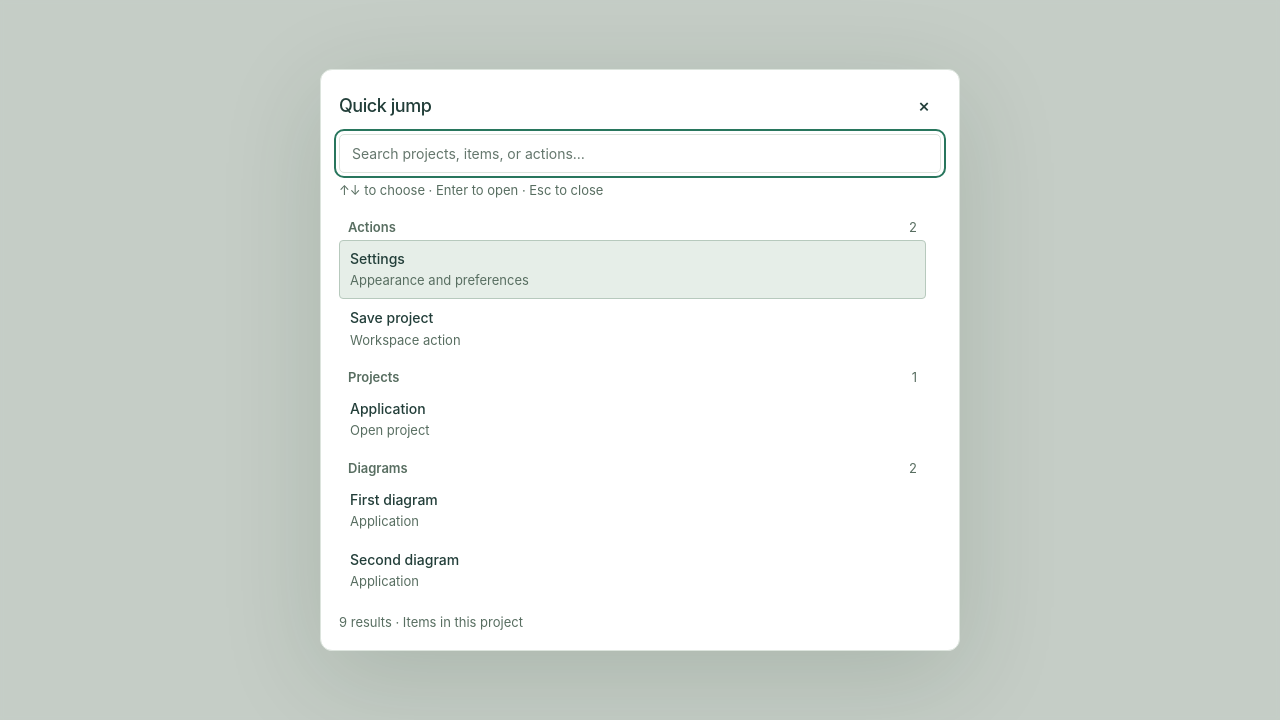
Test: command palette interaction › keeps failed navigation open and prevents duplicate choices while a save is pending
In the dropdown: (640, 154) x1=339 y1=134 x2=941 y2=173, type "Second diagram"
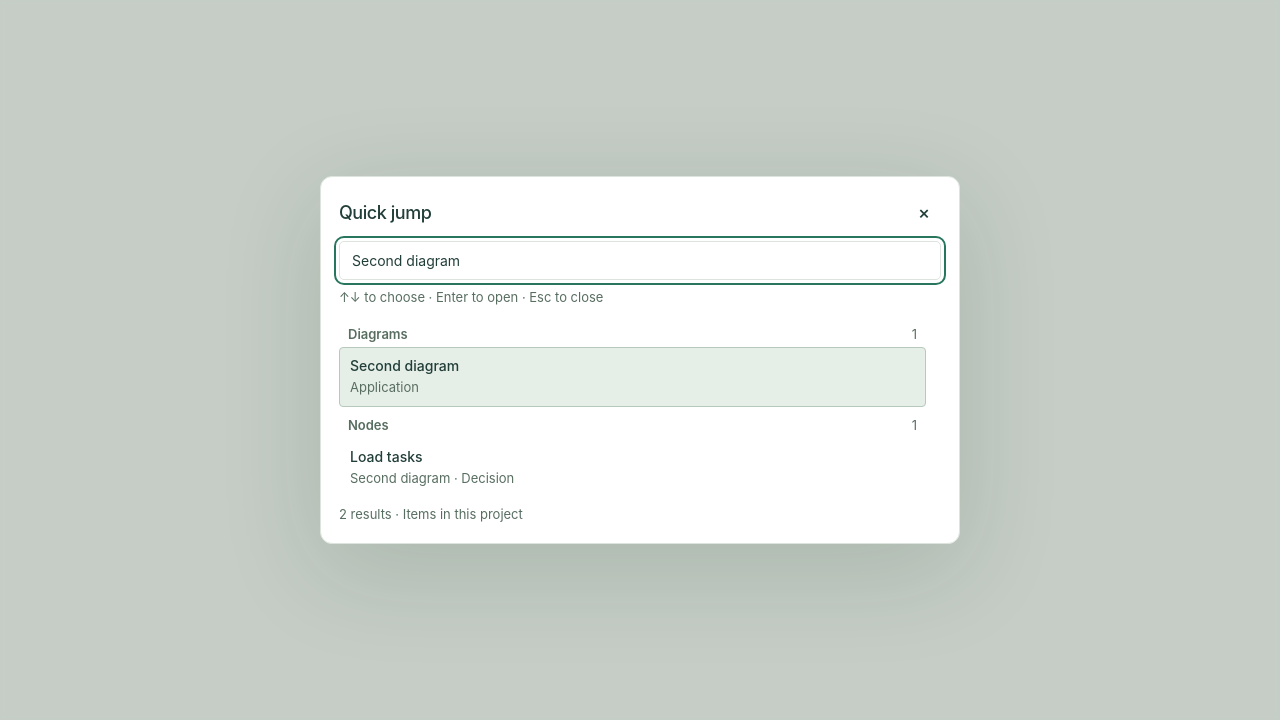
Press Enter in the dropdown, box x1=339 y1=241 x2=941 y2=280
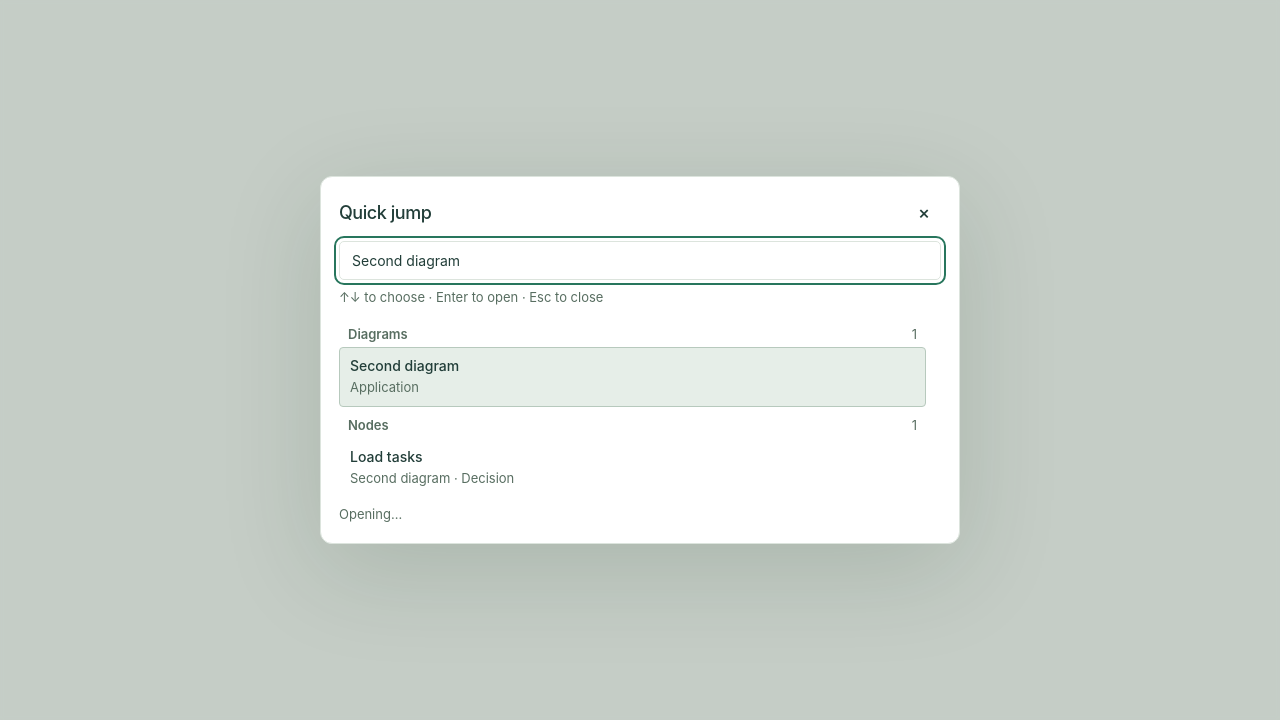
Press Enter in the dropdown, box x1=339 y1=241 x2=941 y2=280
Click the button named "Close dialog": click(924, 212) x1=907 y1=195 x2=941 y2=229
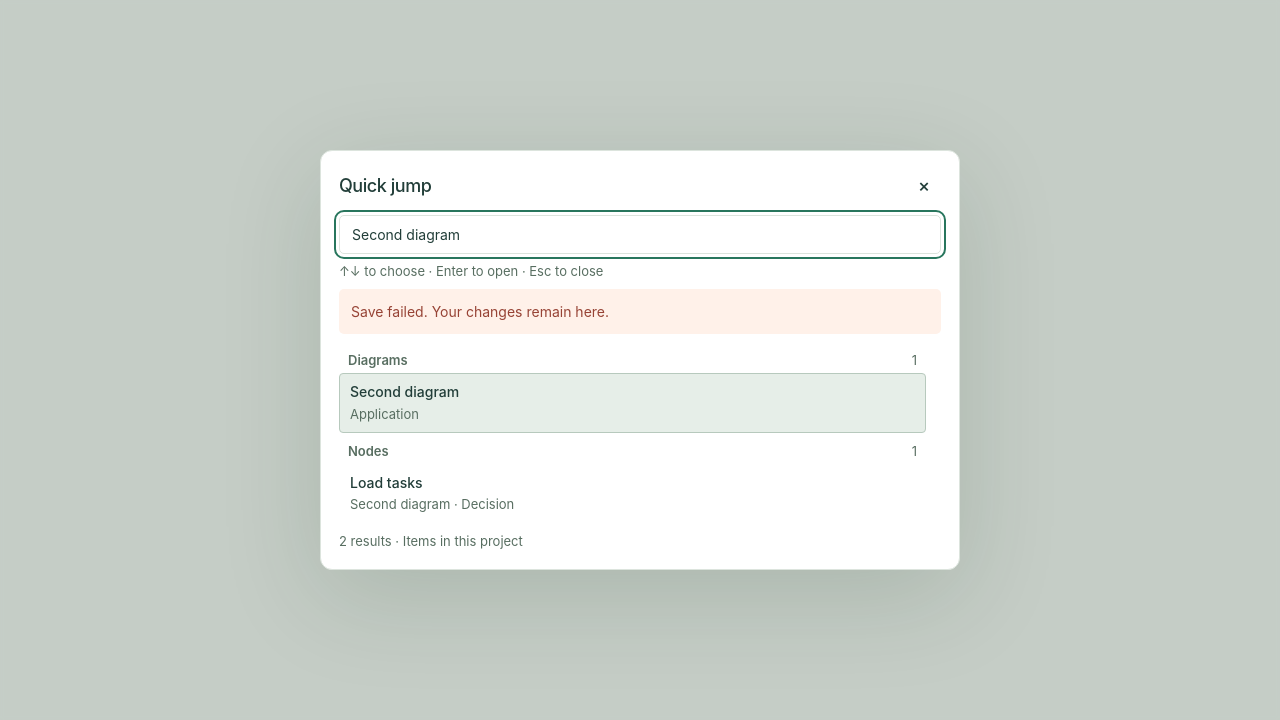
Expected: the message "Save failed. Your changes remain here." is shown, x1=339 y1=289 x2=941 y2=334
